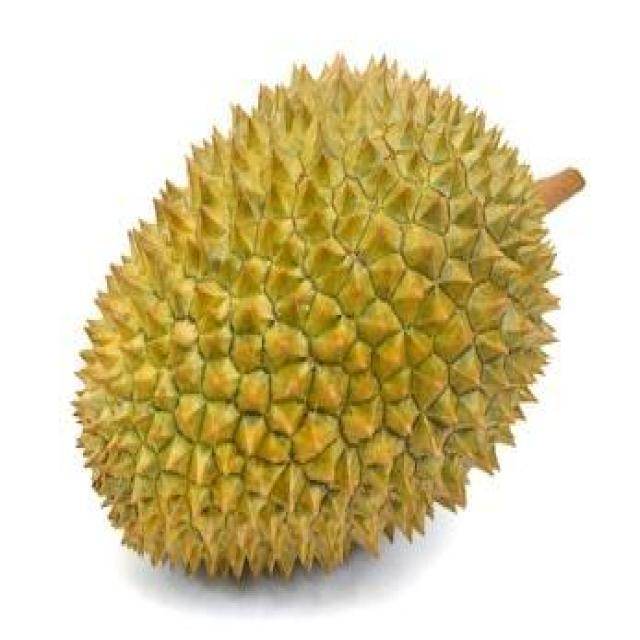mature: (75, 58, 558, 578)
